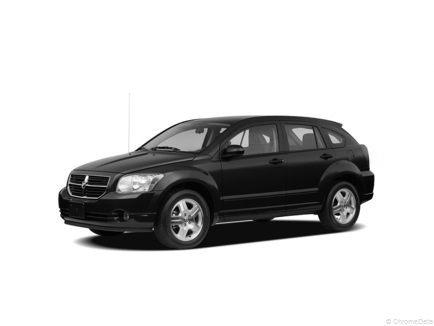car: (57, 114, 378, 253)
